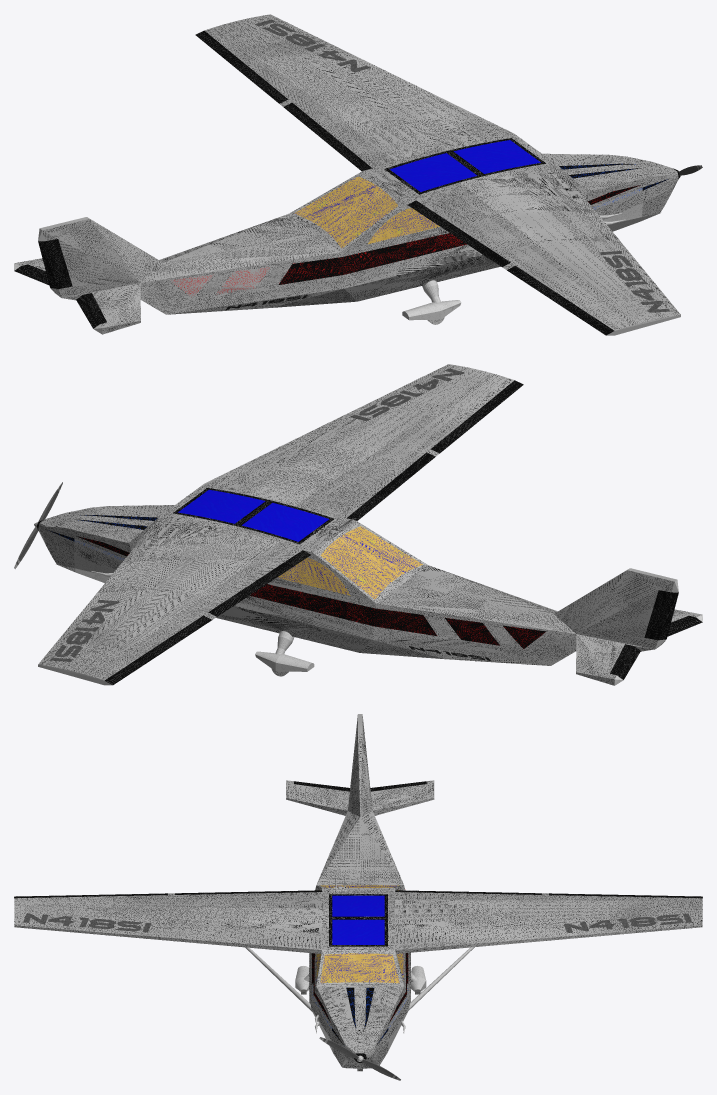
3 renders of one model, top to bottom at view 1: azimuth 30°, elevation 25°; view 2: azimuth 150°, elevation 25°; view 3: azimuth 270°, elevation 25°, orthographic. The views are drawn at different scales.
Visible parts, largest first — view 1: mesh31_mesh31-geometry; view 2: mesh31_mesh31-geometry; view 3: mesh31_mesh31-geometry.
Boxes of the visible parts, bbox=[...] form: mesh31_mesh31-geometry: bbox=[14, 14, 680, 335]; mesh31_mesh31-geometry: bbox=[34, 364, 702, 685]; mesh31_mesh31-geometry: bbox=[14, 714, 702, 1071].
Size of the model in its own units: 0.6627 by 0.1583 by 0.7319.
